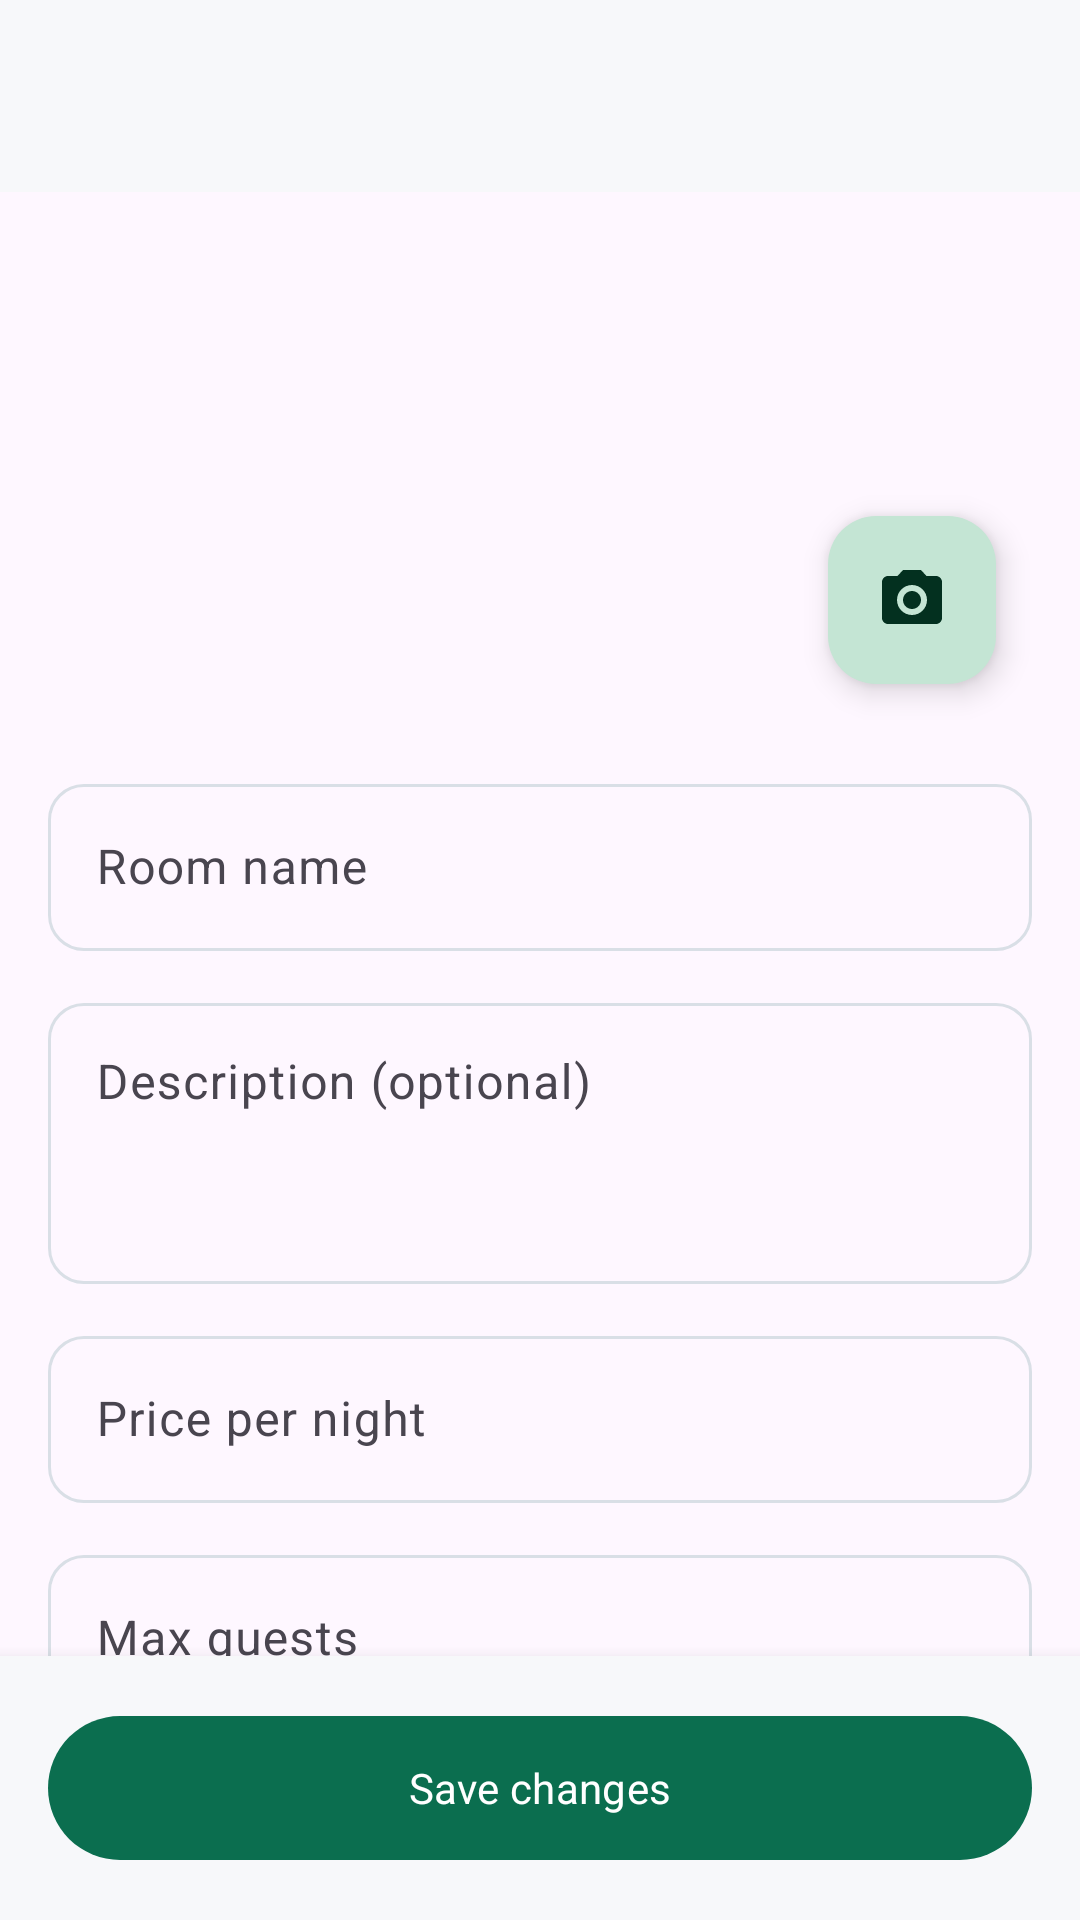

Screen size 1080 x 1920. Icon name, then its center in pixels as (x,y):
camera: (912,600)
